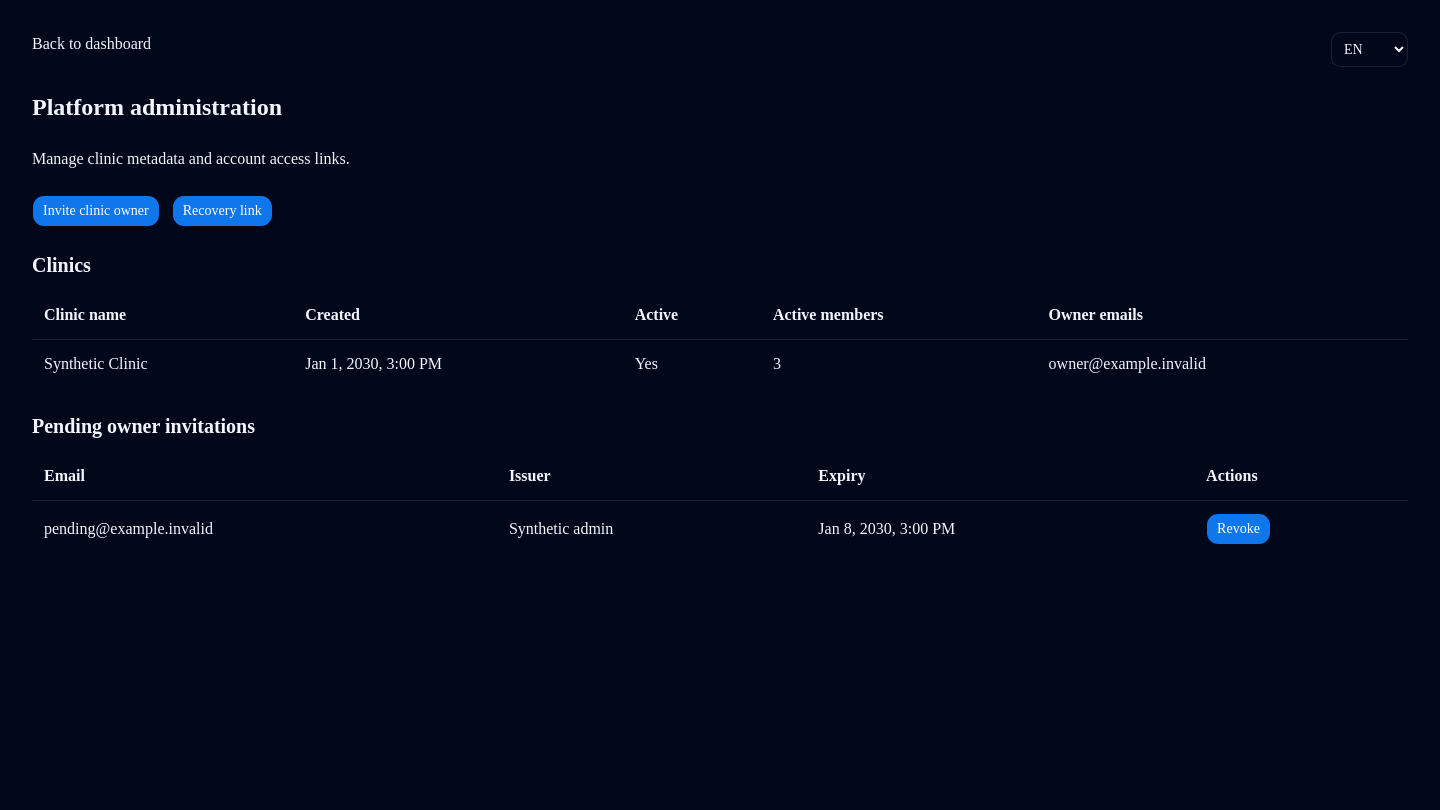
supports manual copy fallback
The width and height of the screenshot is (1440, 810).
Click the button "Invite clinic owner" at {"x": 96, "y": 211}, box [32, 195, 160, 227]
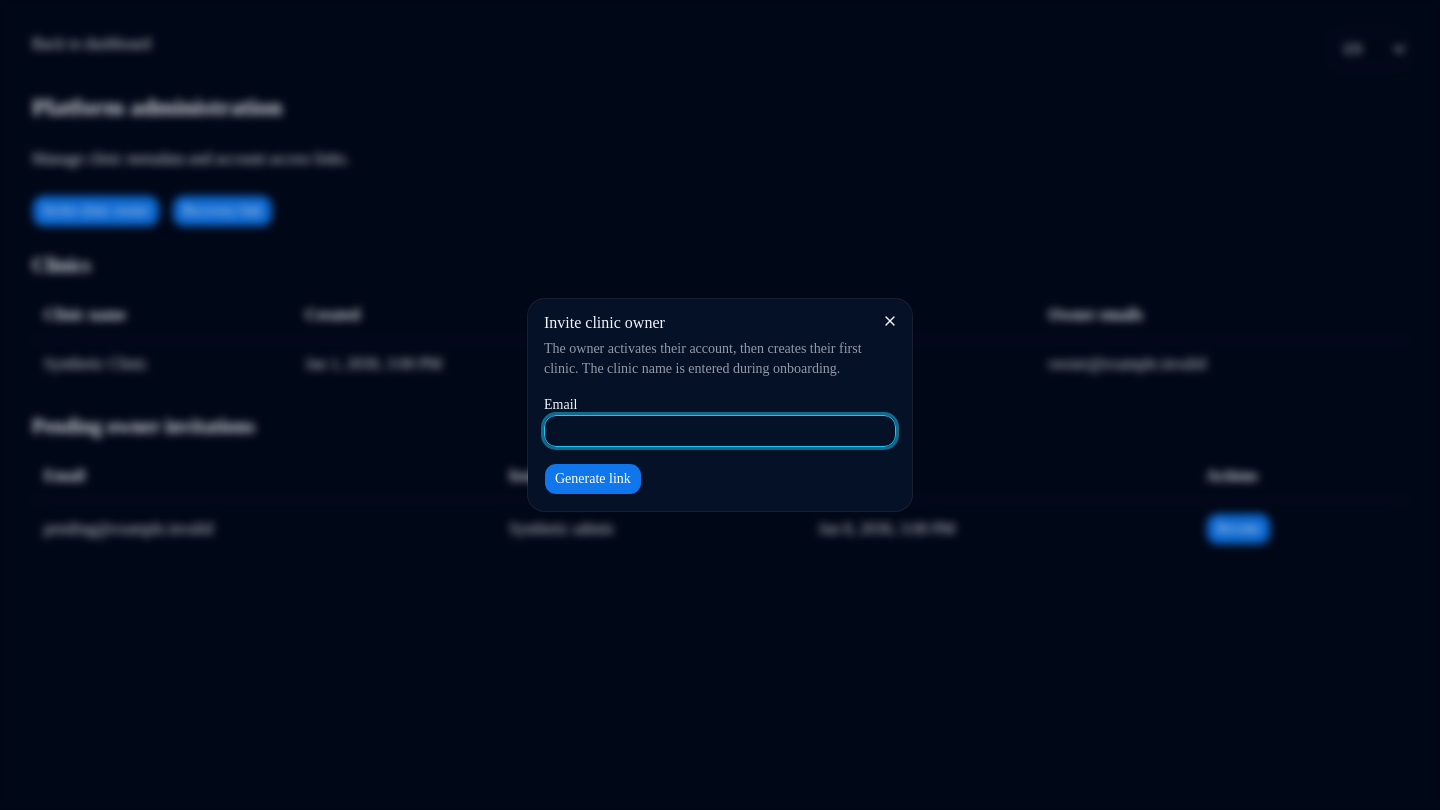
Type "new@example.invalid" into the field labelled "Email" at {"x": 720, "y": 431}, box [544, 415, 896, 447]
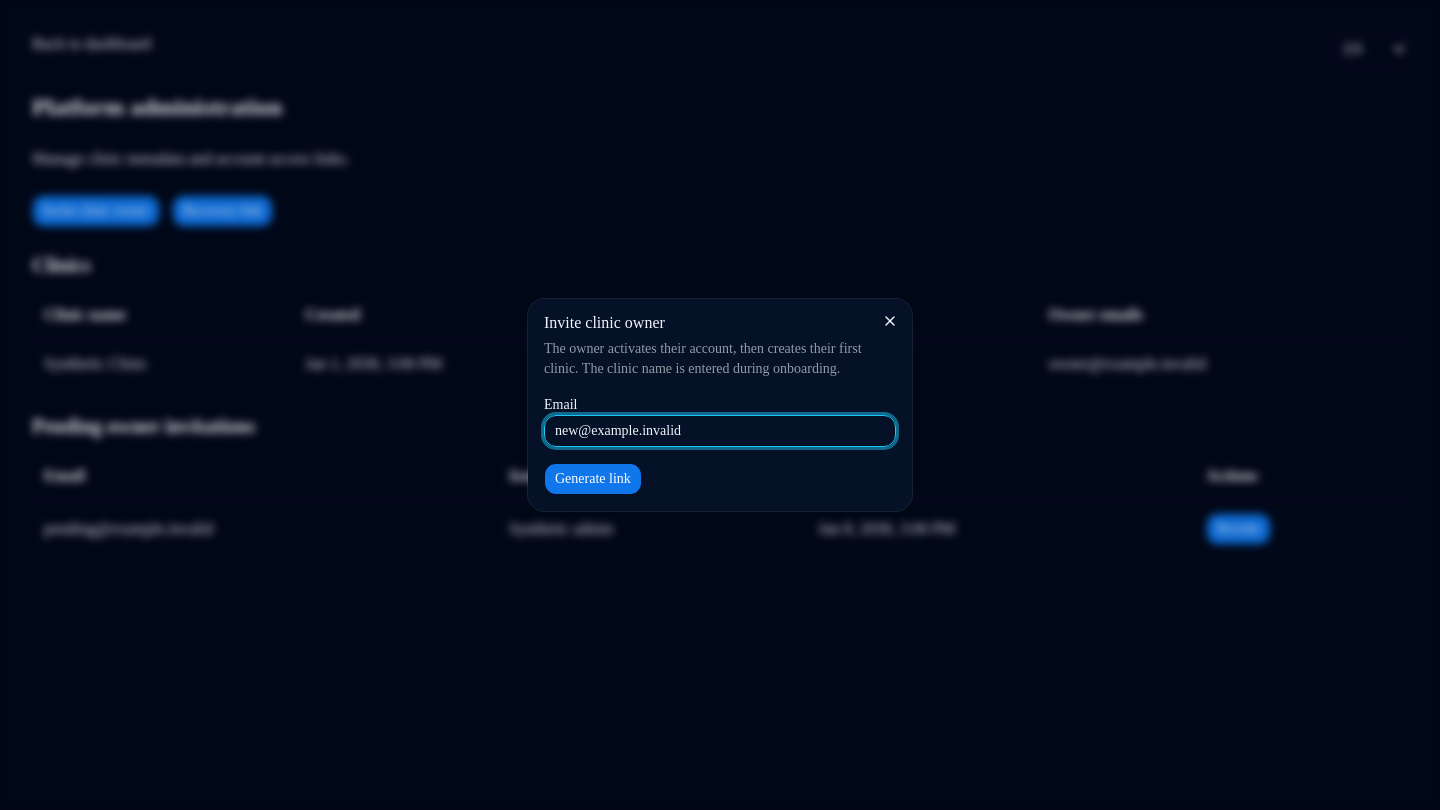
Click the button "Generate link" at {"x": 593, "y": 479}, box [544, 463, 642, 495]
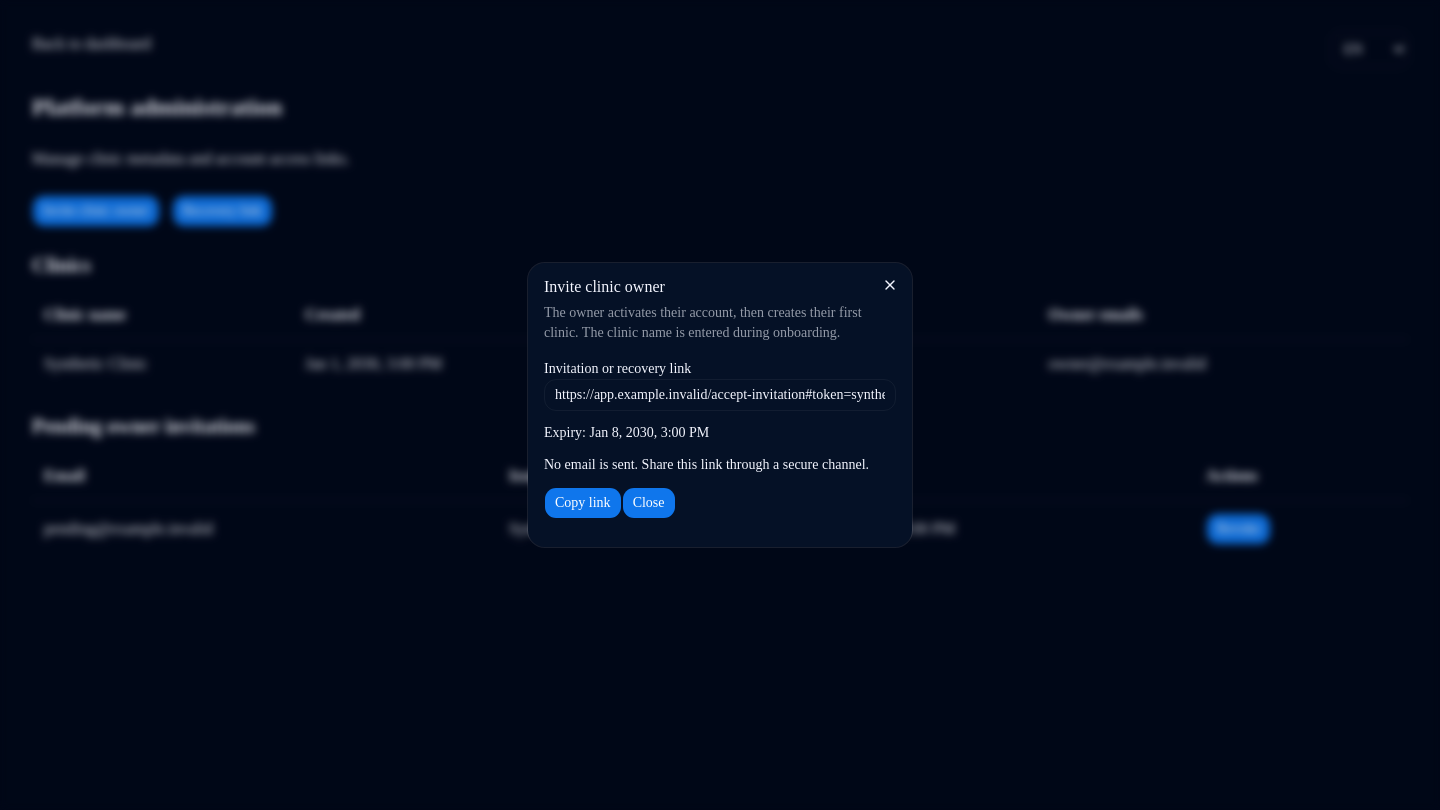
Result: the field labelled "Invitation or recovery link" is shown at [544, 379, 896, 411]
Click the button "Copy link" at {"x": 583, "y": 503}, box [544, 487, 622, 519]
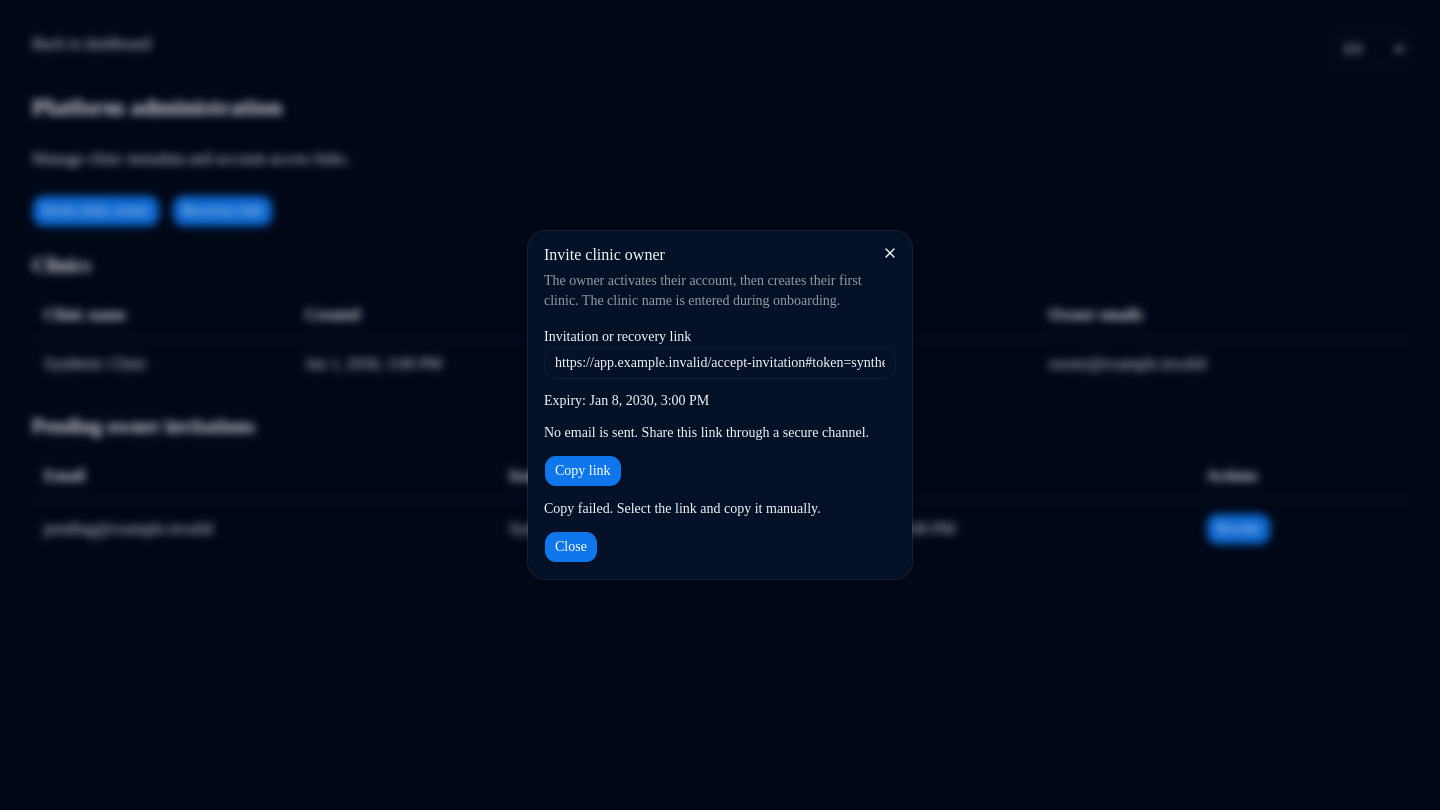
Result: the message shows "copy it manually" at [544, 501, 821, 516]
